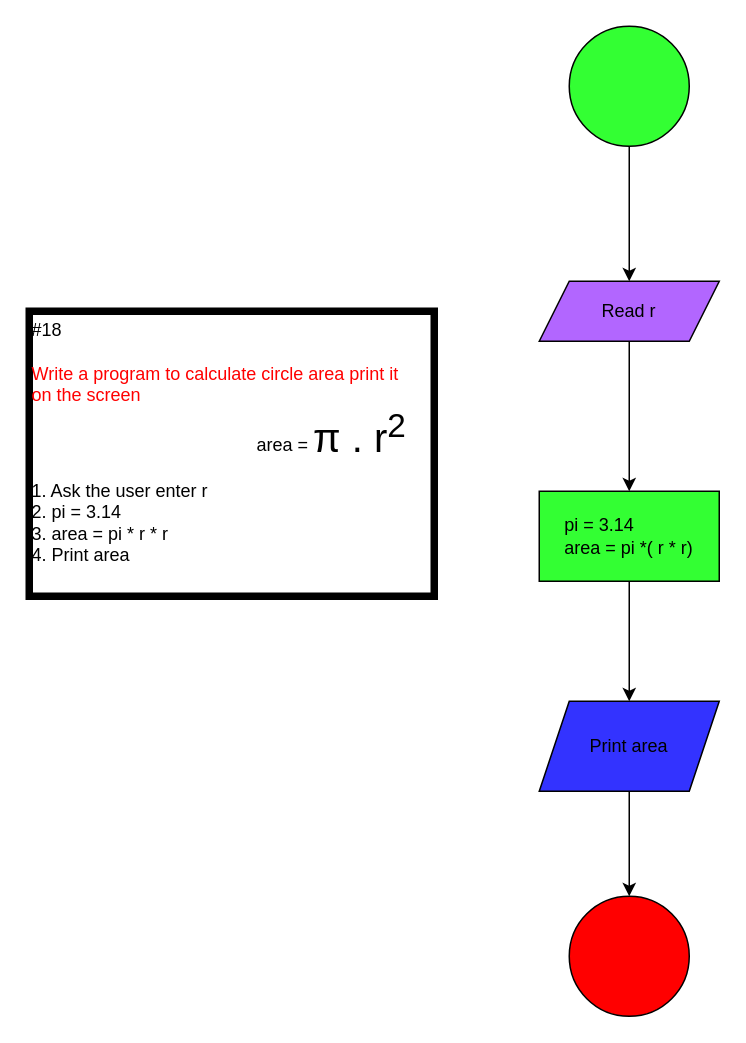
This 746x1043 diagram has some shape labels left out. The centre of each missing label's shape, as x and y in pixels:
End: (628,955)
Start: (628,85)
